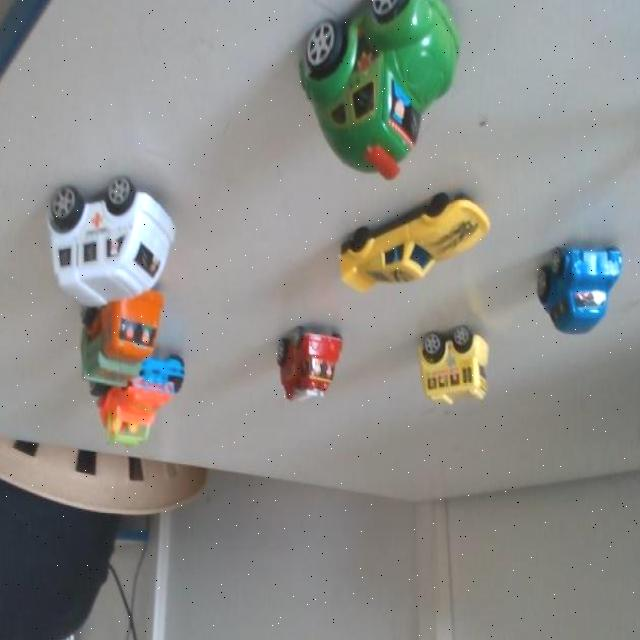car: (309, 0, 473, 178), (52, 152, 197, 330), (348, 182, 481, 304), (410, 311, 499, 411), (112, 349, 194, 454), (270, 307, 344, 414), (96, 280, 160, 394), (548, 238, 622, 336)
